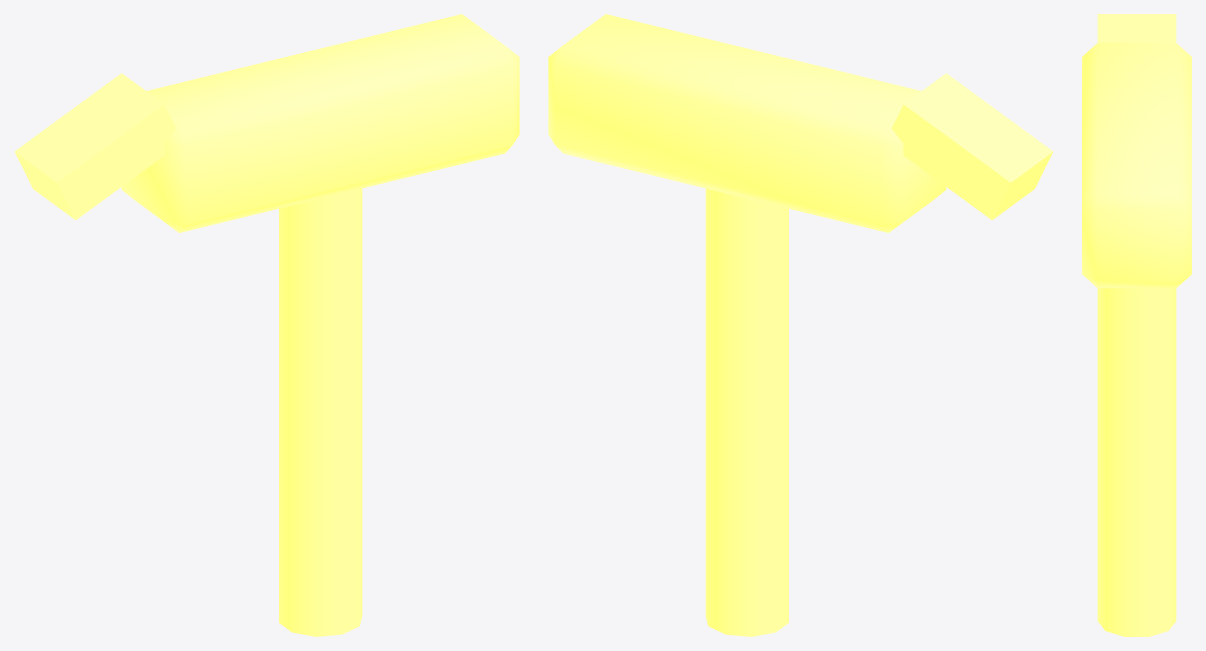
Rendered from pu_carpenter.gltf.
3 renders of one model, left to right at view 1: azimuth 30°, elevation 25°; view 2: azimuth 150°, elevation 25°; view 3: azimuth 270°, elevation 25°, orthographic. The views are drawn at different scales.
Parts seen in each view (by area): view 1: PU_carpenter; view 2: PU_carpenter; view 3: PU_carpenter.
Part boxes in pixels (bbox=[...]): PU_carpenter: bbox=[14, 14, 519, 636]; PU_carpenter: bbox=[548, 14, 1053, 636]; PU_carpenter: bbox=[1082, 14, 1191, 636].
Bounding box in the file's own units: 0.3126 × 0.3705 × 0.07.
